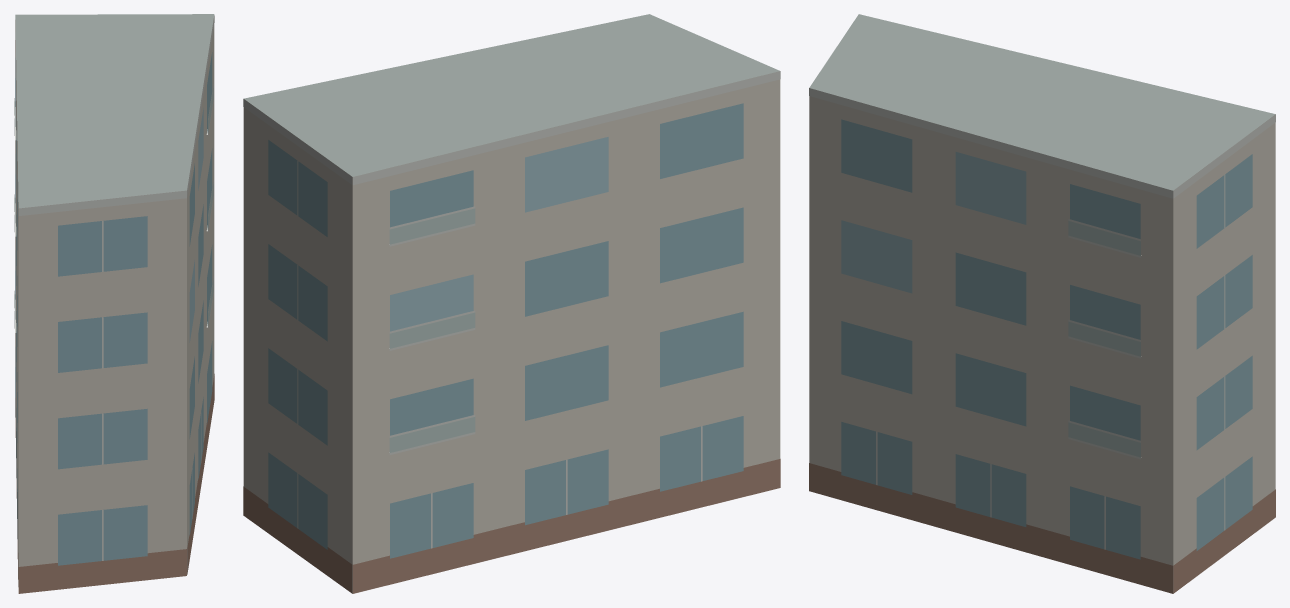
File: survey-upis-32559181.glb
3 renders of one model, left to right at view 1: azimuth 30°, elevation 25°; view 2: azimuth 150°, elevation 25°; view 3: azimuth 270°, elevation 25°, orthographic. The views are drawn at different scales.
Visible parts, largest first — view 1: survey-upis-32559181.tmp; view 2: survey-upis-32559181.tmp; view 3: survey-upis-32559181.tmp.
Boxes of the visible parts, x1,y1,x2,y2 form: survey-upis-32559181.tmp: (14,14,214,593); survey-upis-32559181.tmp: (243,14,780,593); survey-upis-32559181.tmp: (809,14,1275,593).
Bounding box in the file's own units: 11.48 × 12.2 × 12.81.
